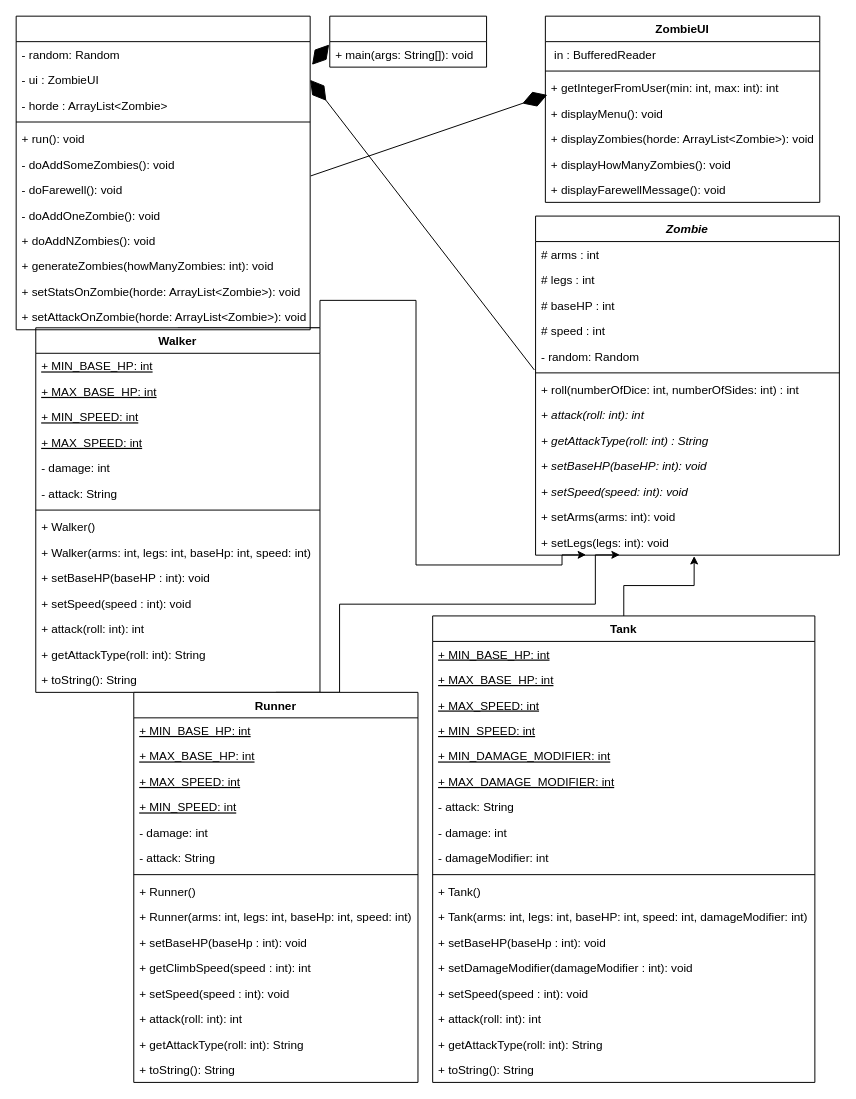
This 856x1099 diagram has some shape labels left out. Here are the shapes that lost their labels. From the top down, the box of each, then its label:
(329, 15, 487, 67): Columbus
(15, 15, 310, 330): ZedGenerator
